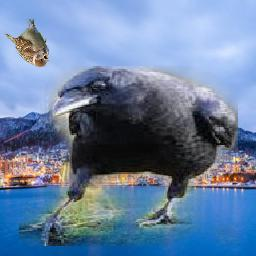Crow: (20, 66, 239, 246)
Sparrow: (5, 19, 50, 67)
